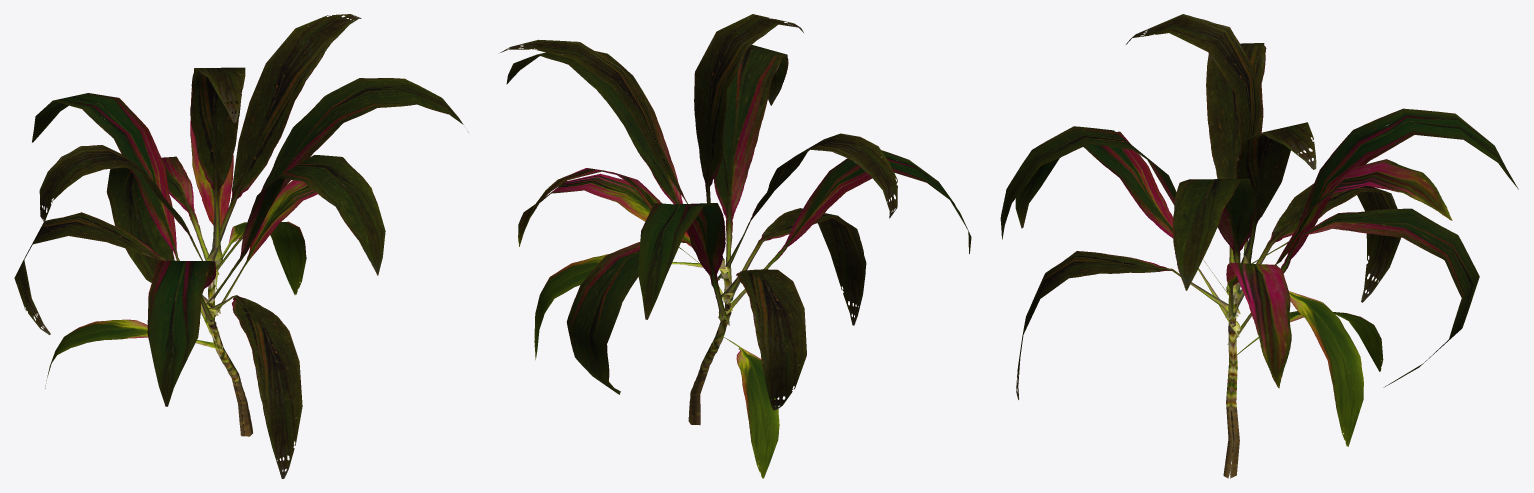
File: Q_Plant_Cordyline_1.fbx
The picture shows the model from 3 angles, left to right: view 1: azimuth 30°, elevation 25°; view 2: azimuth 150°, elevation 25°; view 3: azimuth 270°, elevation 25°; orthographic projection. The views are drawn at different scales.
Parts seen in each view (by area): view 1: _2675_Var1_LOD2; view 2: _2675_Var1_LOD2; view 3: _2675_Var1_LOD2.
Part boxes in pixels (<box>): _2675_Var1_LOD2: <box>14,14,468,478</box>; _2675_Var1_LOD2: <box>500,14,971,478</box>; _2675_Var1_LOD2: <box>1000,14,1518,478</box>.
Bounding box in the file's own units: 31.15 × 28.69 × 31.42.
Materials: 1 (1 with a texture image).
